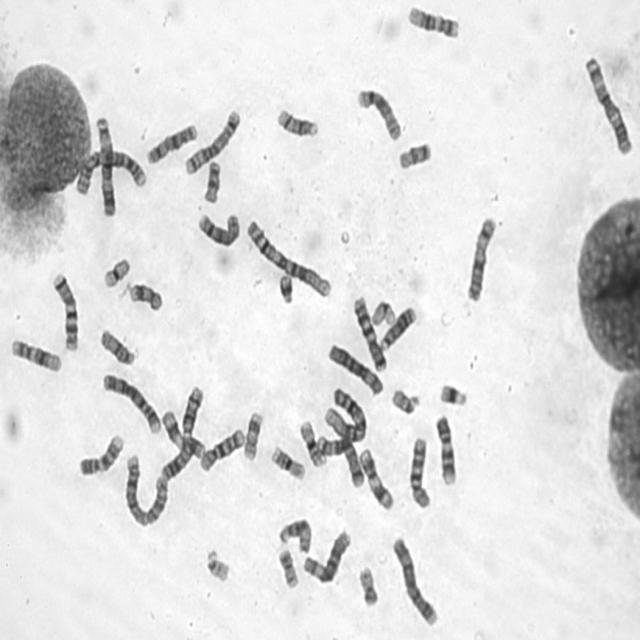A1: (243, 214, 333, 300), (321, 384, 368, 443)
A2: (72, 144, 148, 197), (122, 449, 170, 528)
A3: (581, 52, 634, 156), (92, 112, 116, 218)
B4: (389, 532, 439, 629), (99, 368, 162, 436)
B5: (181, 105, 242, 177), (314, 430, 364, 490)
C10: (196, 424, 246, 474), (407, 432, 432, 512)
C11: (356, 444, 396, 512), (158, 406, 206, 459)
C12: (7, 334, 63, 374), (404, 2, 461, 40)
C6: (324, 340, 385, 397), (300, 526, 352, 586)
C7: (350, 291, 388, 373), (49, 267, 80, 354)
C8: (353, 84, 403, 142), (194, 208, 241, 249)
C9: (75, 430, 125, 477), (432, 411, 458, 488)
D13: (377, 302, 417, 351), (158, 438, 194, 483)
D14: (180, 381, 208, 447), (273, 103, 320, 139)
D15: (96, 324, 136, 366), (276, 514, 312, 555)
E16: (267, 441, 307, 482), (296, 416, 327, 468)
E17: (126, 278, 164, 314), (240, 407, 264, 463)
E18: (395, 138, 433, 171), (200, 156, 222, 204)
F19: (100, 254, 131, 289), (368, 297, 396, 328)
F20: (274, 544, 300, 591), (355, 563, 379, 609)
G21: (436, 379, 469, 408), (276, 269, 295, 305)
G22: (202, 544, 232, 585), (388, 385, 421, 416)
X: (463, 212, 498, 304), (143, 118, 199, 166)
